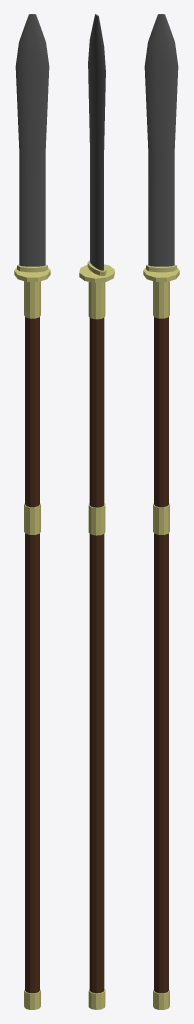
Rendered from AssetSword.fbx.
3 views of the same model, side by side, from view 1: azimuth 90°, elevation 25°; view 2: azimuth 210°, elevation 25°; view 3: azimuth 270°, elevation 25° (orthographic).
Visible parts, largest first — view 1: Cylinder.049; view 2: Cylinder.049; view 3: Cylinder.049.
Boxes of the visible parts, bbox=[...] form: Cylinder.049: bbox=[14, 14, 50, 1009]; Cylinder.049: bbox=[79, 14, 114, 1009]; Cylinder.049: bbox=[143, 14, 179, 1009].
Size of the model in its own units: 32.7 by 1035 by 34.38.
